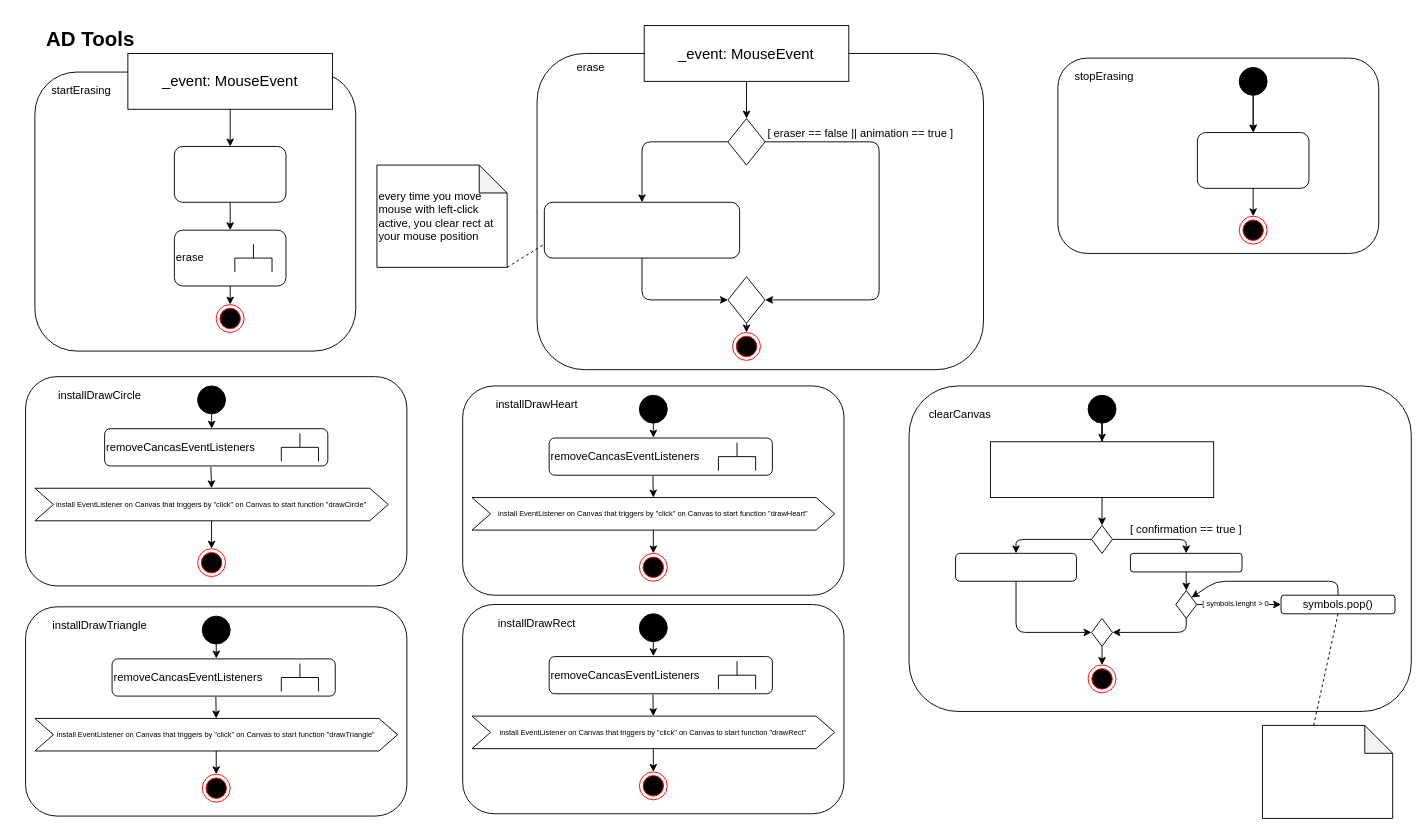
Image size: 1428x834. Some labels were removed from this diagram. The box of each missing label's shape, as (x1, y1, x2, y2) in pixels:
alert user that pic hasn't been saved: (955, 552, 1076, 581)
clear Canvas: (1129, 552, 1242, 572)
clear every Object on canvas by popping the entire array: (1262, 724, 1393, 818)
crc2.clearRect(_event.offsetX - 25, _event.offsetY - 25, 50, 50): (543, 201, 740, 258)
eraser = false: (1196, 132, 1309, 188)
eraser = true: (173, 146, 286, 202)
let confirmation = confirm("Do you really want to delete your picture?": (990, 441, 1214, 498)
